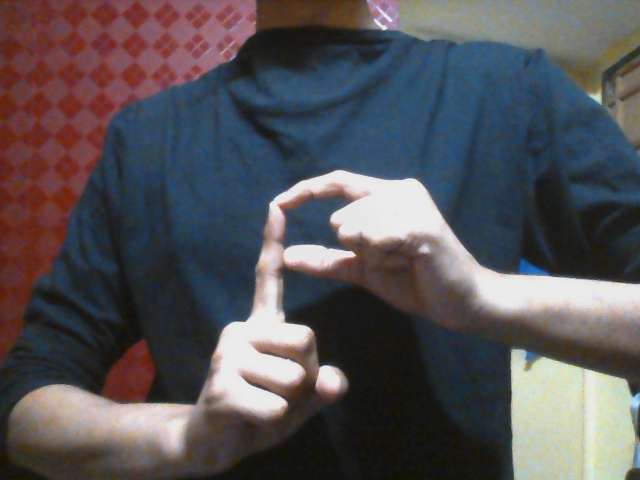P: (198, 170, 454, 449)
